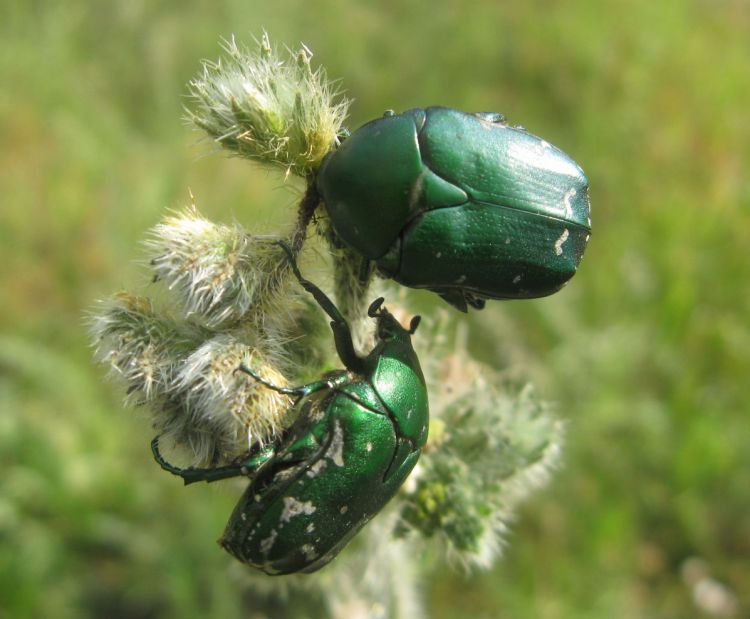Protaetia_ungarica: (148, 234, 450, 580), (314, 98, 600, 314)
